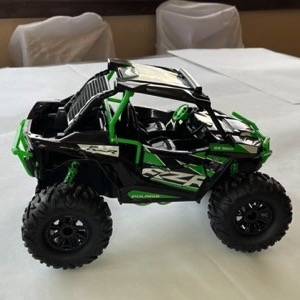polaris: (11, 58, 295, 272)
